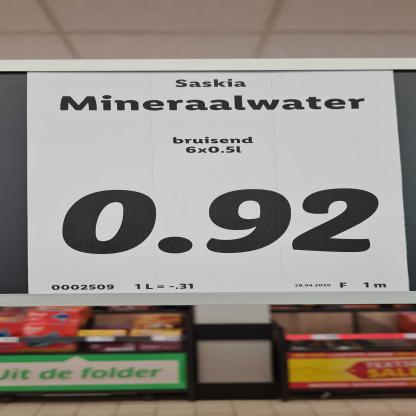prtg: (28, 71, 410, 294)
